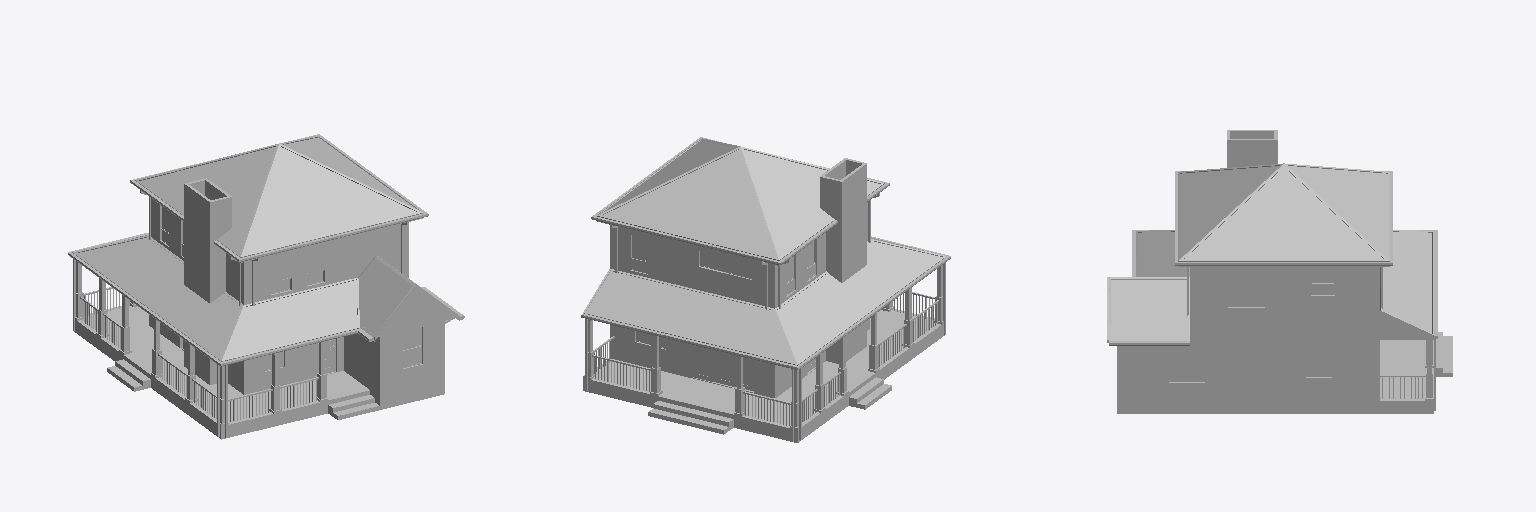
The model's file is House.obj.
The picture shows the model from 3 angles: view 1: azimuth 30°, elevation 25°; view 2: azimuth 150°, elevation 25°; view 3: azimuth 270°, elevation 25°; orthographic projection.
Parts seen in each view (by area): view 1: House; view 2: House; view 3: House.
Boxes of the visible parts, x1,y1,x2,y2 form: House: [68, 134, 464, 439]; House: [581, 137, 950, 442]; House: [1107, 130, 1452, 413].
Size of the model in its own units: 358 by 292 by 436.